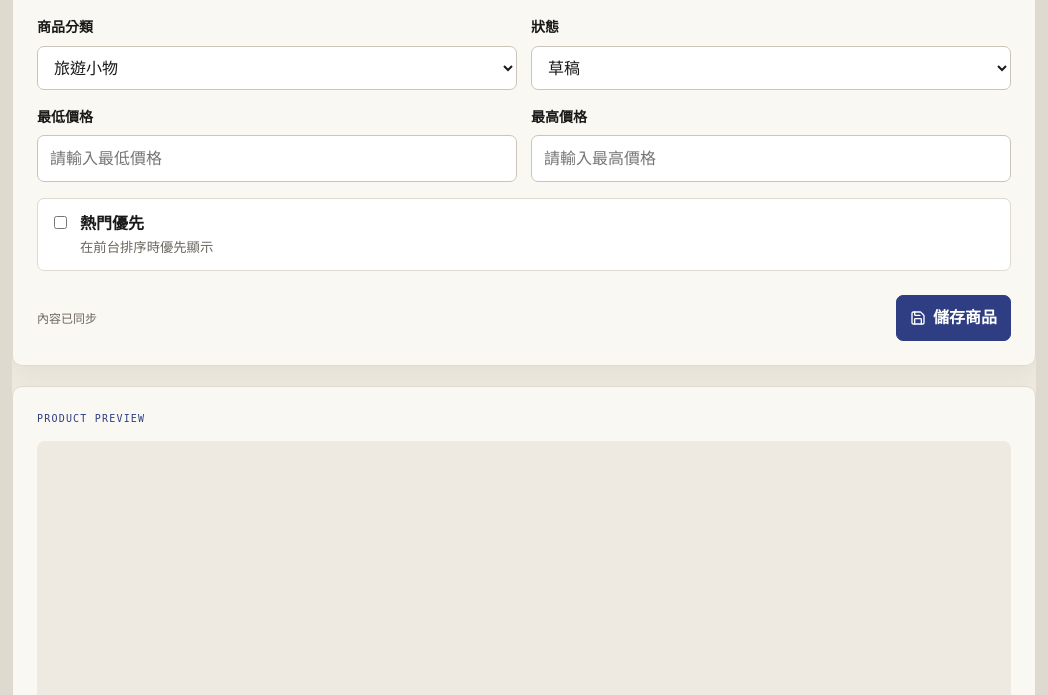
Test: ProductEditorPage — new product › shows required-field errors when submitting an untouched form
(page scrolled)
Click the button "儲存商品": point(954, 318) [896,295,1011,341]
(page scrolled)
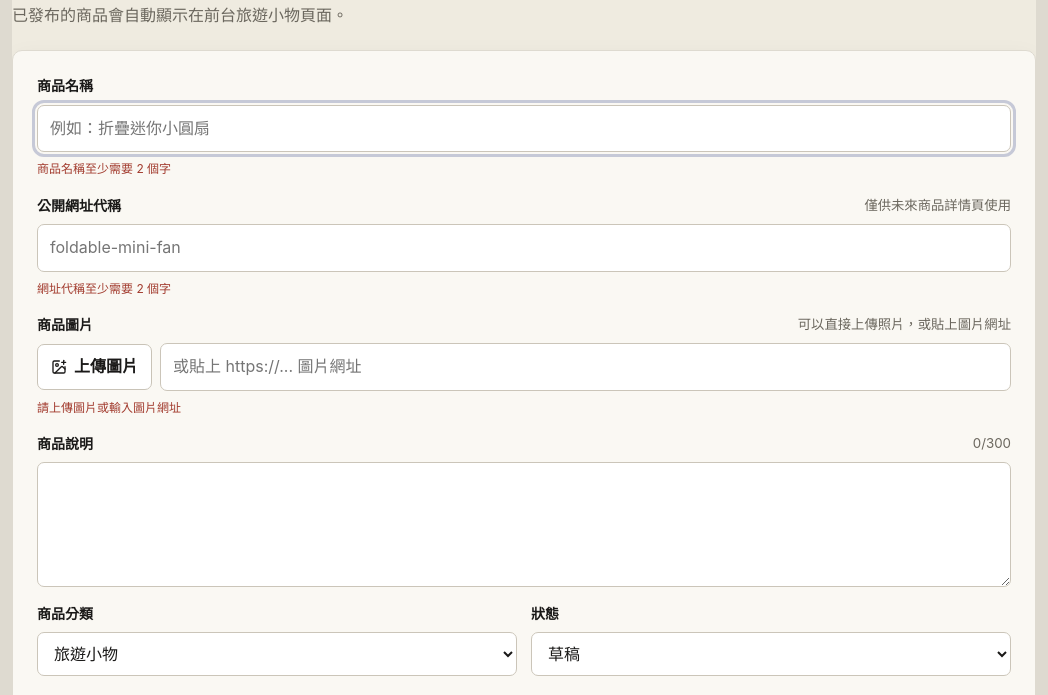
Check: the text "商品名稱至少需要 2 個字" is shown, box [37,161,171,176]
Check: the text "網址代稱至少需要 2 個字" is shown, box [37,280,171,296]
Check: the text "請上傳圖片或輸入圖片網址" is shown, box [37,400,181,415]
